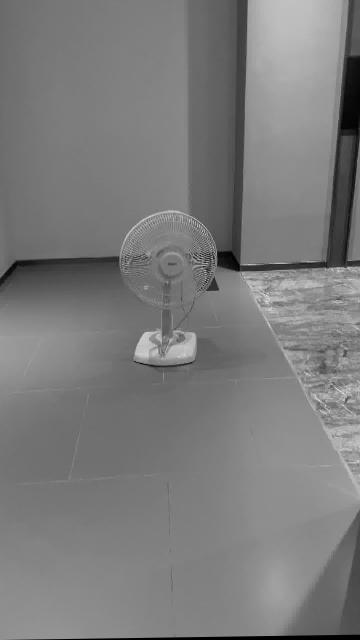Fan: (119, 211, 218, 367)
